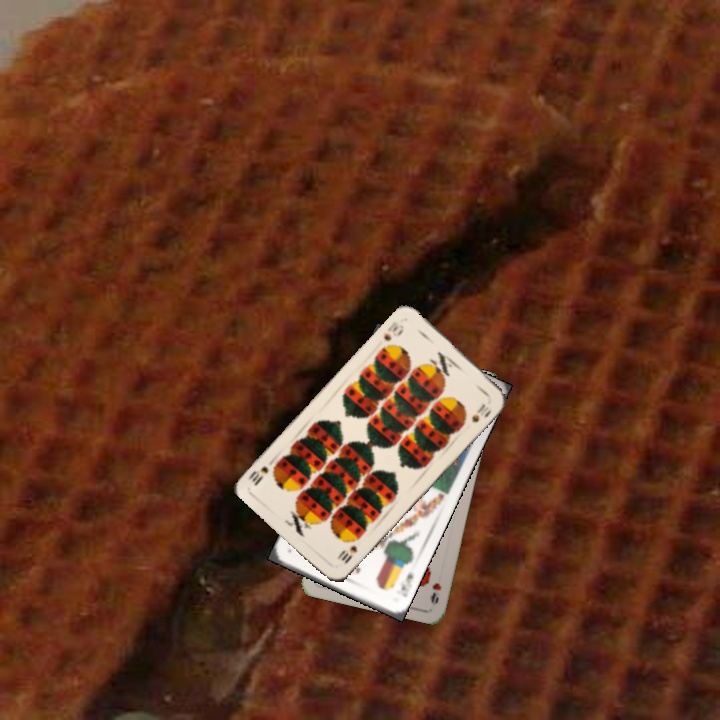EK: (397, 567, 416, 600)
H9: (427, 579, 444, 607)
S10: (379, 318, 407, 344), (333, 541, 360, 566)
